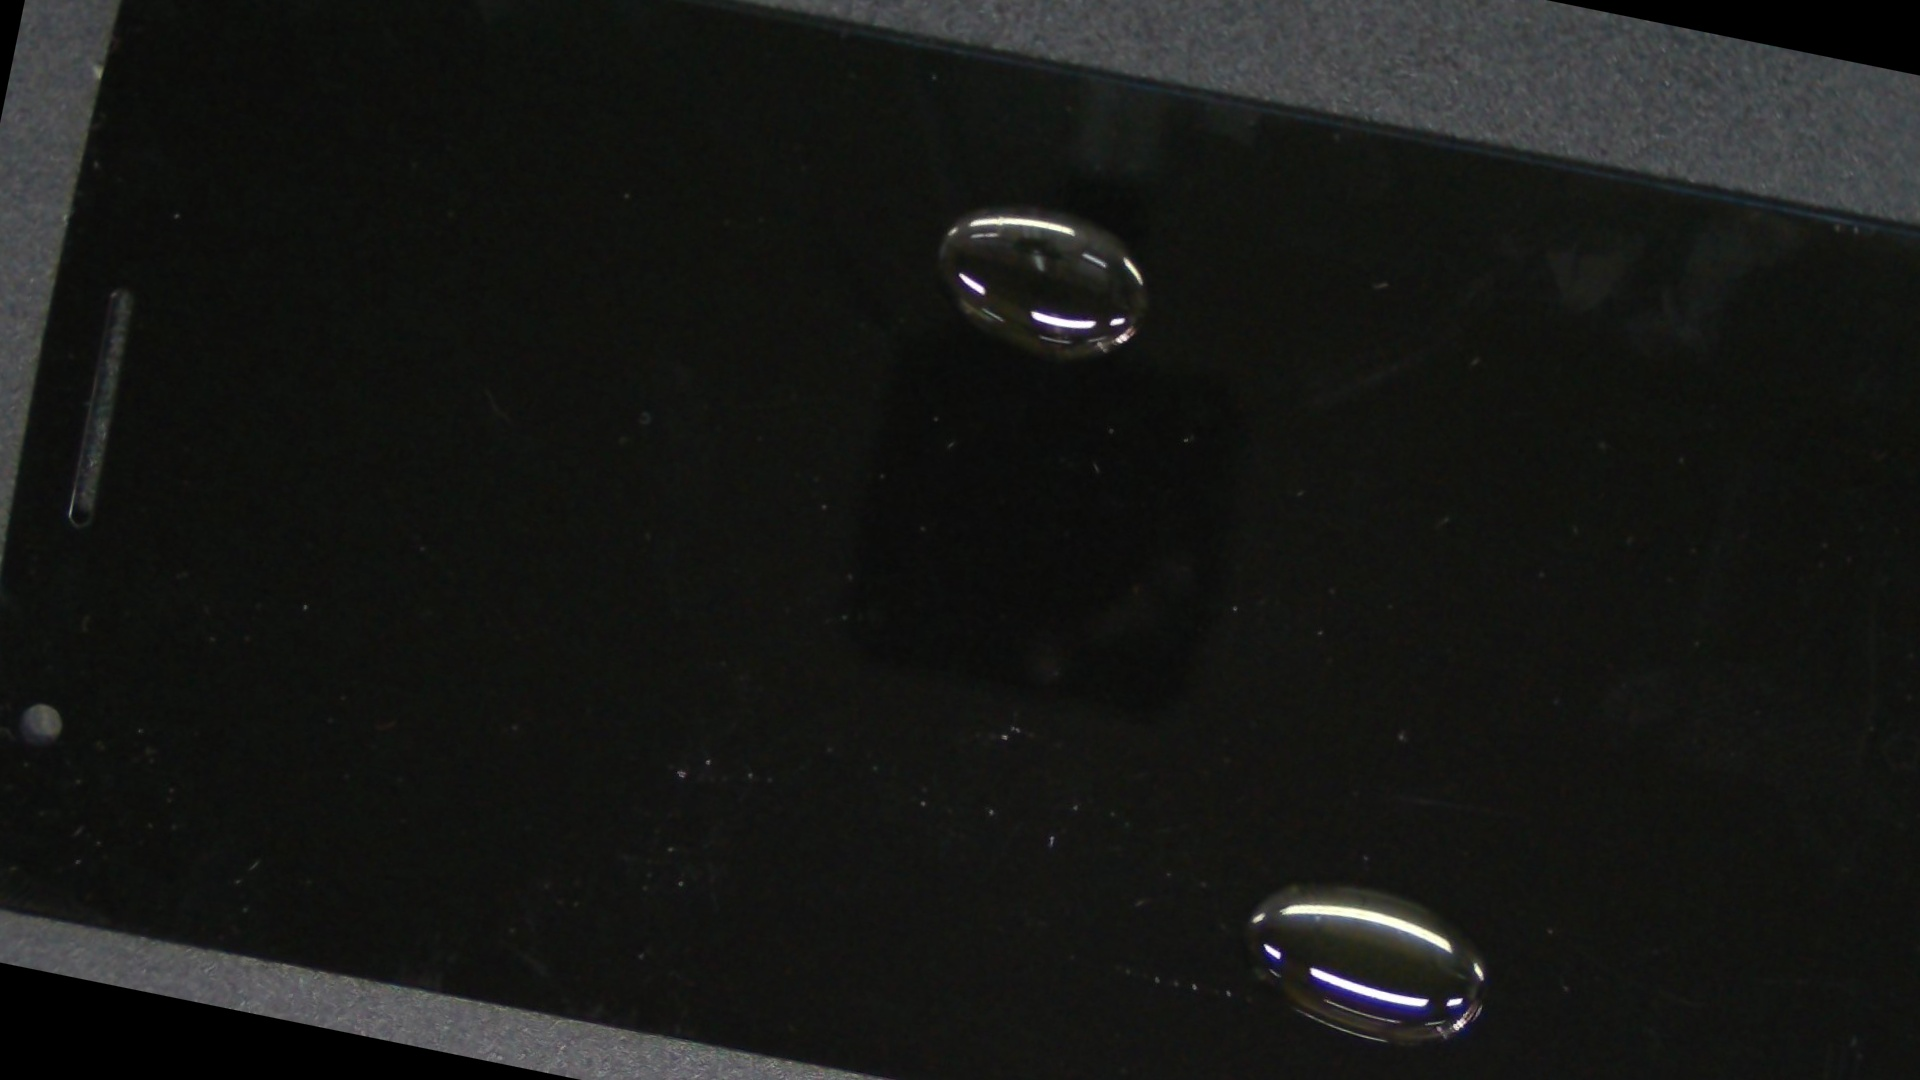oil: (569, 296, 1920, 1080), (503, 0, 1578, 459)
